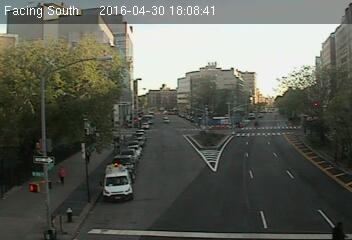neg: (222, 174, 248, 209), (27, 186, 52, 220), (93, 52, 114, 80), (173, 68, 194, 95), (159, 180, 179, 206), (231, 45, 251, 71), (285, 117, 304, 142), (78, 112, 97, 137), (127, 29, 146, 54), (52, 61, 69, 85), (127, 120, 144, 143), (29, 145, 46, 168), (195, 127, 212, 149), (279, 75, 296, 97), (65, 202, 82, 224), (100, 165, 116, 186), (276, 163, 292, 184), (28, 88, 44, 109), (235, 99, 248, 117)
pos: (53, 164, 71, 187)
